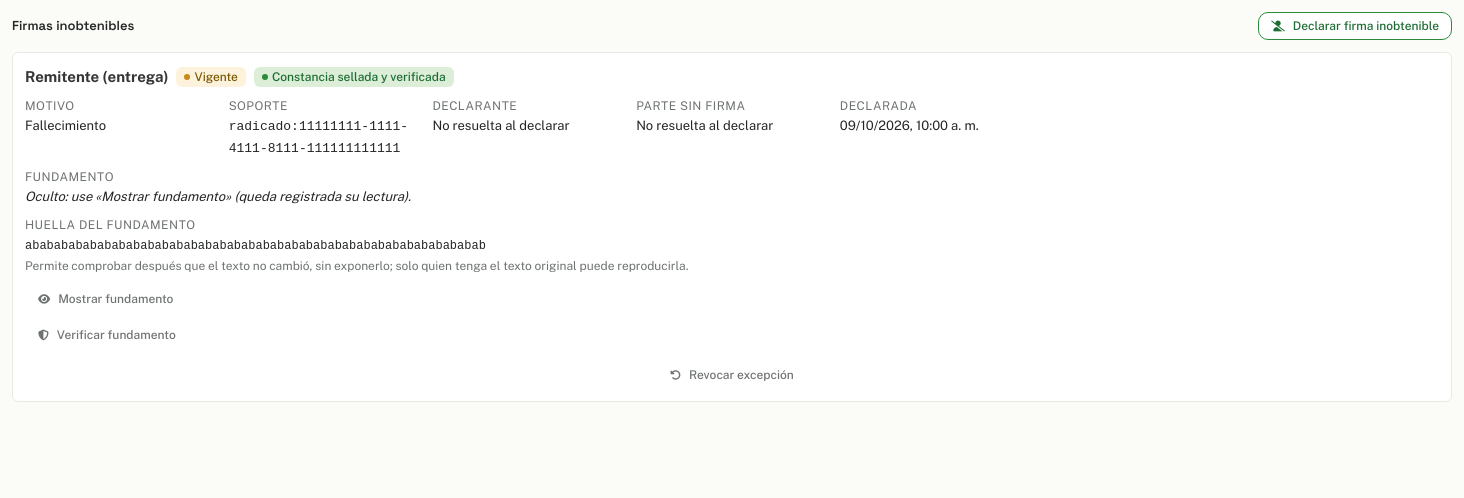
Test: ExcepcionesFirma — FIRMA-2: cadena, soporte y verificación › el botón de verificar el fundamento es para administración 3 y muestra las tres copias
Click the 3rd button named "verificar fundamento" at x=107, y=335, box x1=25 y1=321 x2=189 y2=349
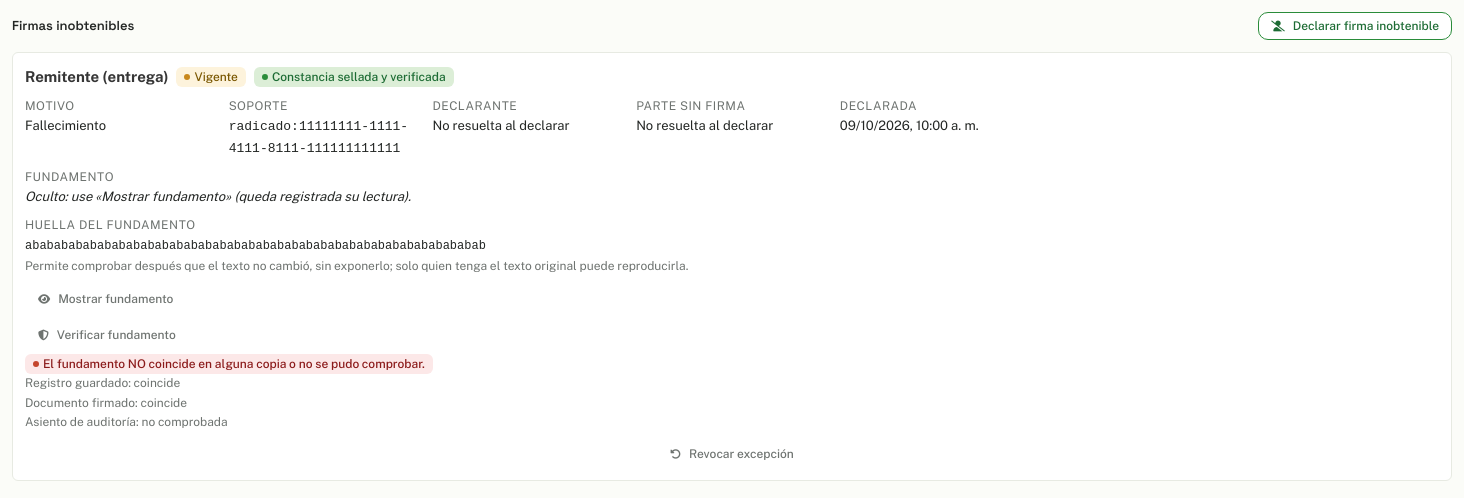
Expected: the element with test id "verif-resultado" is shown, x1=25 y1=353 x2=433 y2=374
Expected: the text "NO coincide" is shown, x1=43 y1=356 x2=425 y2=370
Expected: the list item "Asiento de auditoría: no comprobada" is shown, x1=25 y1=415 x2=228 y2=429
